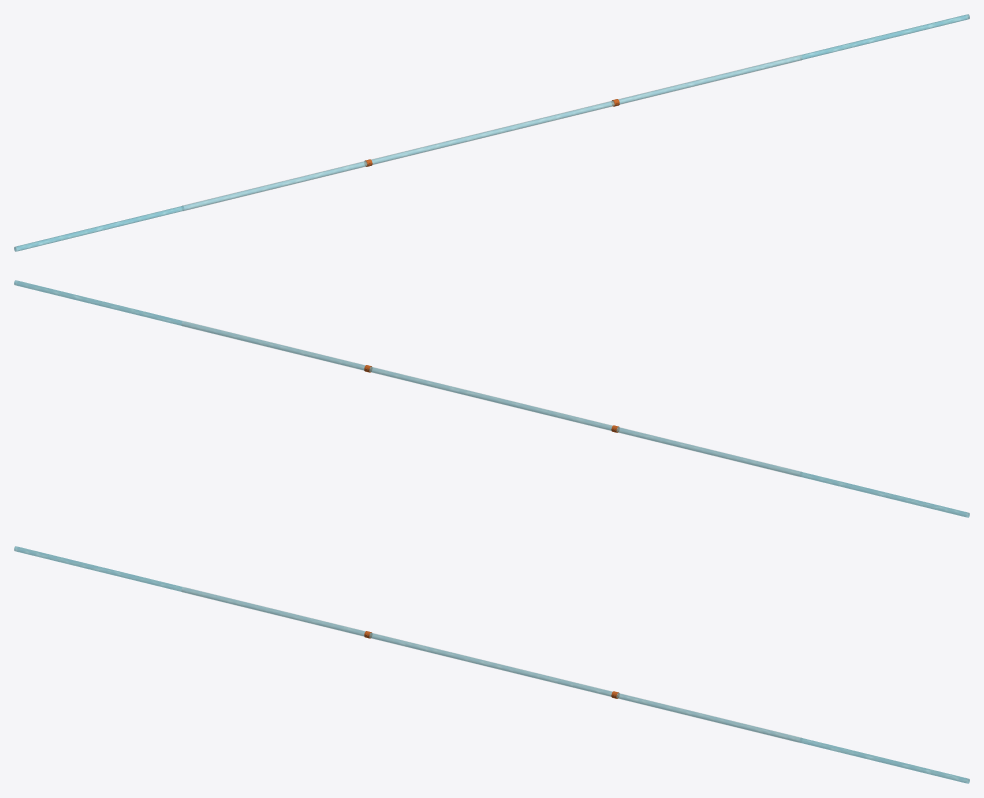
Rendered from Pipe.glb.
3 renders of one model, top to bottom at view 1: azimuth 30°, elevation 25°; view 2: azimuth 150°, elevation 25°; view 3: azimuth 330°, elevation 25°, orthographic.
Parts seen in each view (by area): view 1: Cylinder.001, Pipe; view 2: Cylinder.001, Pipe; view 3: Cylinder.001, Pipe.
Part boxes in pixels (bbox=[...]): Cylinder.001: bbox=[14, 14, 969, 251]; Pipe: bbox=[182, 55, 801, 210]; Cylinder.001: bbox=[14, 280, 969, 517]; Pipe: bbox=[182, 321, 801, 476]; Cylinder.001: bbox=[14, 546, 969, 783]; Pipe: bbox=[182, 587, 801, 742].
Size of the model in its own units: 22.85 by 0.1417 by 0.1522.
Materials: 3 (1 with a texture image).
